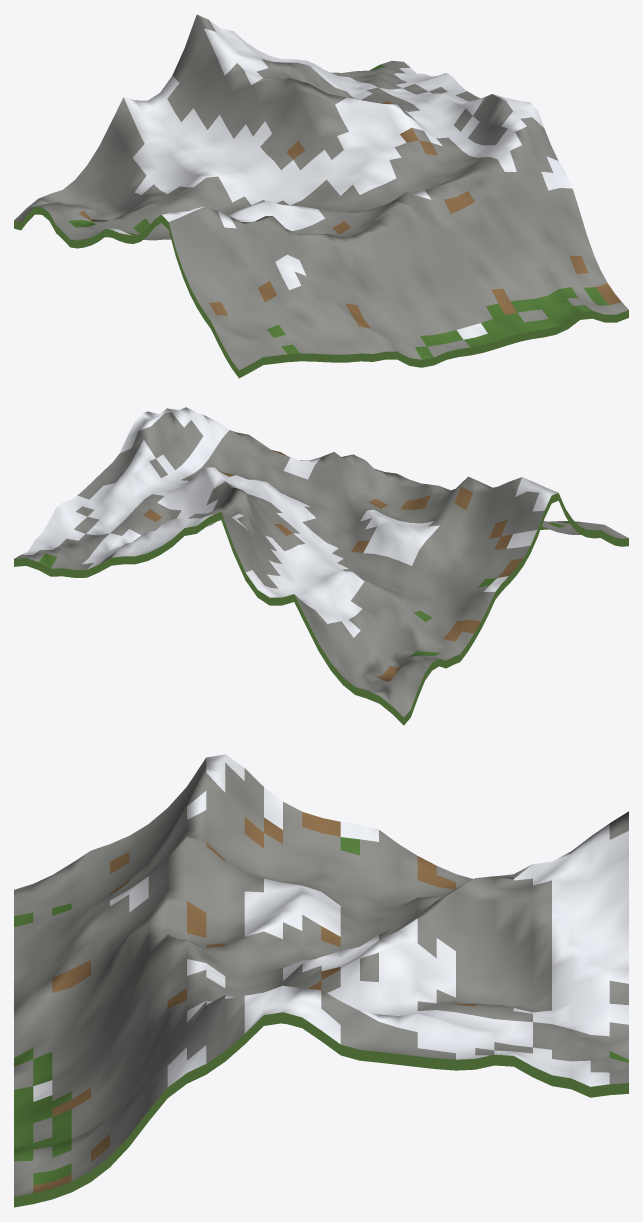
The model's file is chunk_5_2_lod1.glb.
The picture shows the model from 3 angles, top to bottom: view 1: azimuth 30°, elevation 25°; view 2: azimuth 150°, elevation 25°; view 3: azimuth 270°, elevation 25°; orthographic projection. The views are drawn at different scales.
Parts seen in each view (by area): view 1: Surface_Gravel, Surface_Snow, Skirt, Surface_Grass, Surface_Dirt; view 2: Surface_Gravel, Surface_Snow, Skirt, Surface_Dirt, Surface_Grass; view 3: Surface_Gravel, Surface_Snow, Skirt, Surface_Dirt, Surface_Grass.
Part boxes in pixels (x1=…): Surface_Gravel: x1=14, y1=14, x2=628, y2=370; Surface_Snow: x1=106, y1=20, x2=572, y2=339; Skirt: x1=14, y1=206, x2=628, y2=378; Surface_Grass: x1=69, y1=65, x2=609, y2=359; Surface_Dirt: x1=78, y1=101, x2=621, y2=328; Surface_Gravel: x1=14, y1=412, x2=628, y2=717; Surface_Snow: x1=22, y1=407, x2=557, y2=637; Skirt: x1=14, y1=493, x2=628, y2=725; Surface_Dirt: x1=143, y1=451, x2=522, y2=681; Surface_Grass: x1=38, y1=521, x2=579, y2=656; Surface_Gravel: x1=14, y1=758, x2=628, y2=1196; Surface_Snow: x1=33, y1=754, x2=628, y2=1101; Skirt: x1=14, y1=1012, x2=628, y2=1207; Surface_Dirt: x1=33, y1=812, x2=475, y2=1192; Surface_Grass: x1=14, y1=837, x2=628, y2=1185.
Bounding box in the file's own units: 256 × 120 × 256.
